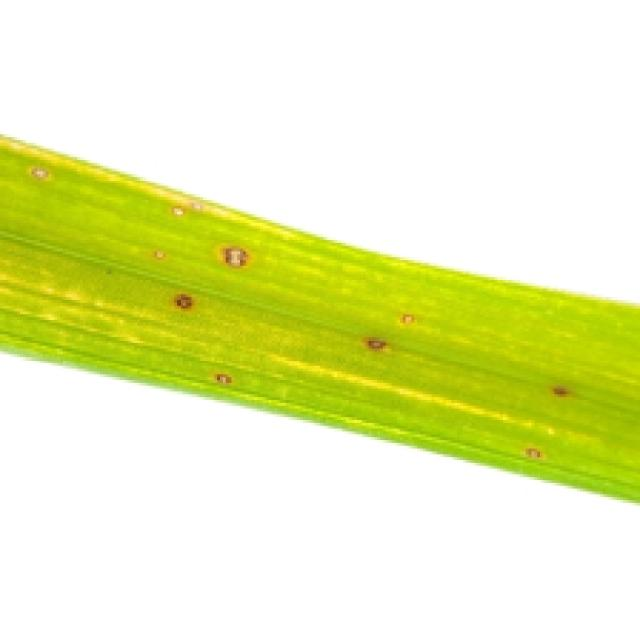Rice___Brown_Spot: (0, 131, 637, 507)
